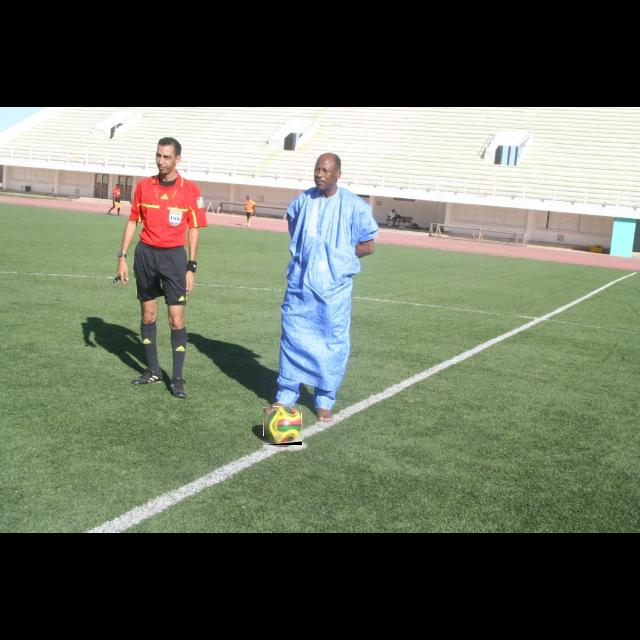Football: (264, 407, 302, 445)
